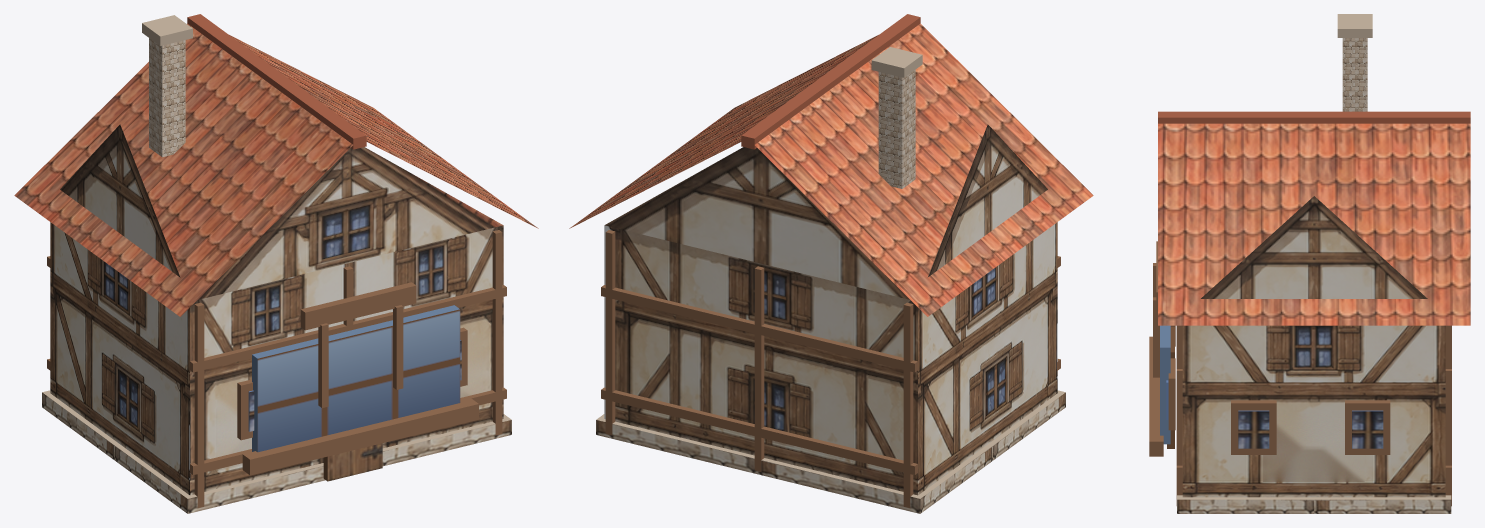
File: shop.glb
3 views of the same model, side by side, from view 1: azimuth 30°, elevation 25°; view 2: azimuth 150°, elevation 25°; view 3: azimuth 270°, elevation 25° (orthographic). The views are drawn at different scales.
Visible parts, largest first — view 1: roof_front_slope, walls_front, walls_left, shopfront_glazing, gable_front, stone_foundation, gable_left, roof_back_slope, shopfront_counter, timber_front_posts, chimney, roof_ridge_cap (+7 smaller); view 2: walls_back, roof_front_slope, walls_left, gable_back, stone_foundation, gable_left, timber_back_posts, roof_back_slope, chimney, timber_back_horizontal, timber_back_upper, roof_ridge_cap (+1 smaller); view 3: roof_back_slope, walls_right, gable_right, stone_foundation, roof_ridge_cap, window_frames_side, window_glass_side, chimney, shopfront_glazing, shopfront_counter, timber_front_posts, timber_back_posts (+3 smaller).
Boxes of the visible parts, x1,y1,x2,y2 form: roof_front_slope: (14, 23, 352, 316); walls_front: (190, 225, 503, 495); walls_left: (50, 222, 189, 494); shopfront_glazing: (252, 305, 460, 452); gable_front: (198, 147, 502, 299); stone_foundation: (42, 390, 511, 513); gable_left: (60, 124, 180, 277); roof_back_slope: (229, 35, 538, 228); shopfront_counter: (242, 398, 478, 475); timber_front_posts: (194, 230, 502, 507); chimney: (149, 38, 185, 157); roof_ridge_cap: (187, 14, 366, 149); walls_back: (604, 225, 917, 495); roof_front_slope: (755, 23, 1093, 316); walls_left: (918, 222, 1057, 494); gable_back: (605, 147, 909, 299); stone_foundation: (596, 390, 1065, 513); gable_left: (927, 124, 1047, 277); timber_back_posts: (605, 230, 913, 507); roof_back_slope: (569, 35, 878, 228); chimney: (878, 70, 915, 188); timber_back_horizontal: (601, 387, 917, 474); timber_back_upper: (601, 285, 917, 372); roof_ridge_cap: (741, 14, 920, 149); roof_back_slope: (1158, 123, 1470, 325); walls_right: (1182, 325, 1445, 497); gable_right: (1201, 196, 1427, 298); stone_foundation: (1177, 495, 1451, 513); roof_ridge_cap: (1158, 111, 1470, 123); window_frames_side: (1231, 400, 1390, 454); window_glass_side: (1238, 410, 1383, 448); chimney: (1342, 38, 1367, 111); shopfront_glazing: (1160, 325, 1170, 444); shopfront_counter: (1149, 336, 1163, 456); timber_front_posts: (1176, 325, 1182, 505); timber_back_posts: (1445, 325, 1451, 506).
Bounding box in the file's own units: 5.5 × 5.86 × 4.9.
Materials: 1 (1 with a texture image).
